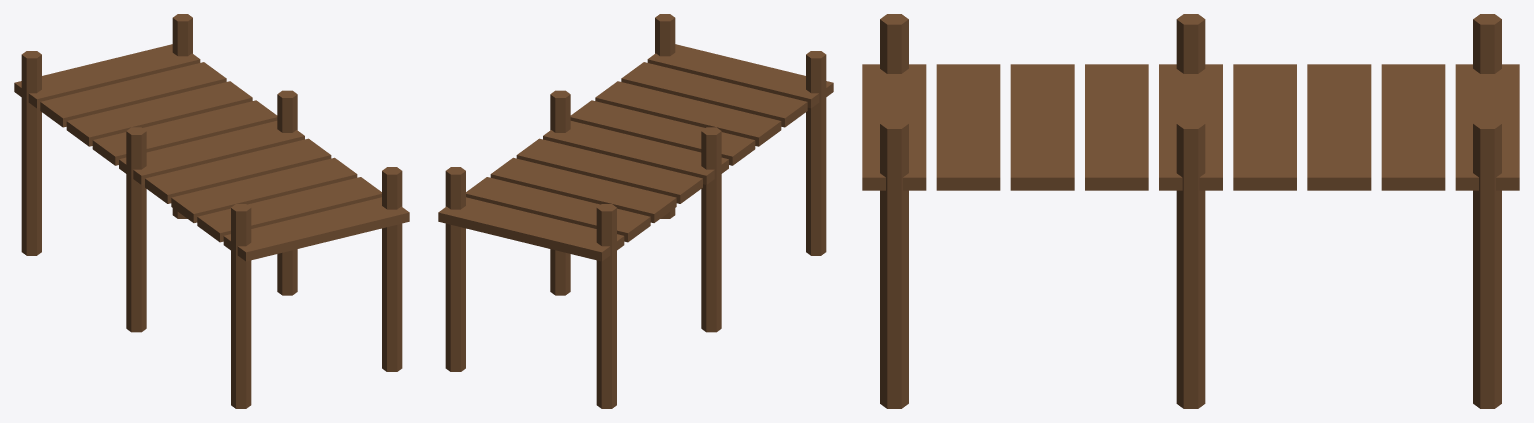
Rendered from dock.glb.
The picture shows the model from 3 angles, left to right: view 1: azimuth 30°, elevation 25°; view 2: azimuth 150°, elevation 25°; view 3: azimuth 270°, elevation 25°; orthographic projection. The views are drawn at different scales.
Visible parts, largest first — view 1: Dock; view 2: Dock; view 3: Dock.
Part boxes in pixels (x1,y1,x2,y2): Dock: (14,14,409,408); Dock: (438,14,833,408); Dock: (862,14,1519,408).
Size of the model in its own units: 2.64 by 3 by 6.38.
